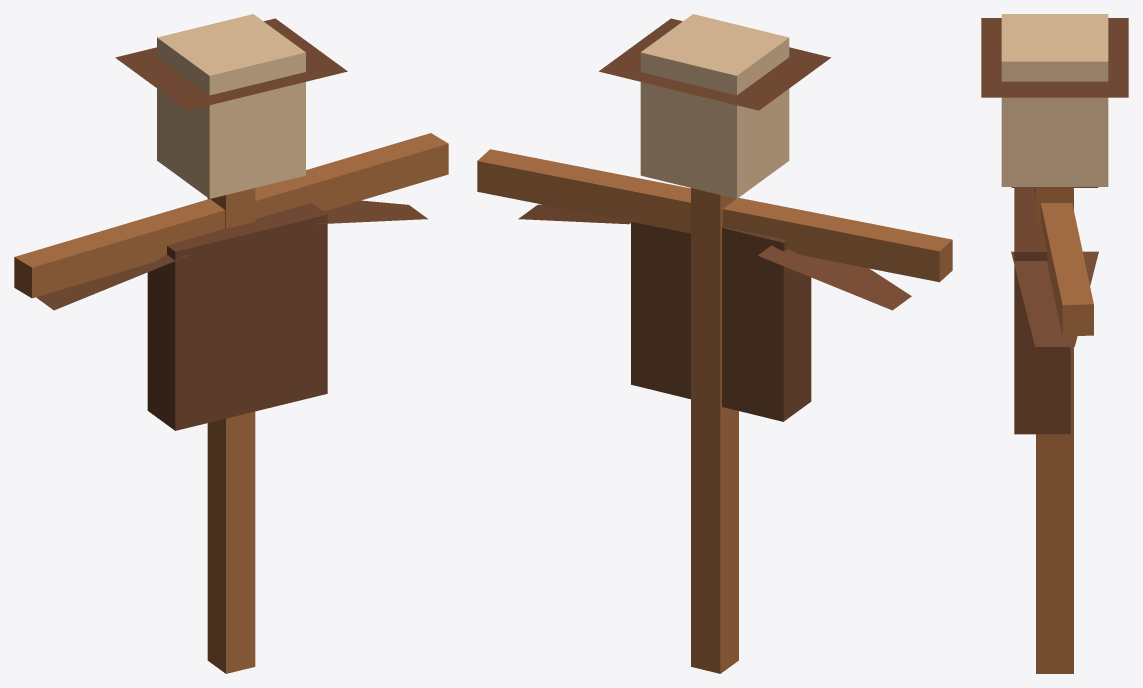
3 views of the same model, side by side, from view 1: azimuth 30°, elevation 25°; view 2: azimuth 150°, elevation 25°; view 3: azimuth 270°, elevation 25° (orthographic).
Visible parts, largest first — view 1: body; view 2: body; view 3: body.
Part boxes in pixels (x1,y1,x2,y2): body: [14, 14, 448, 673]; body: [477, 14, 952, 673]; body: [981, 14, 1128, 673].
Size of the model in its own units: 1.65 by 2.21 by 0.47.
